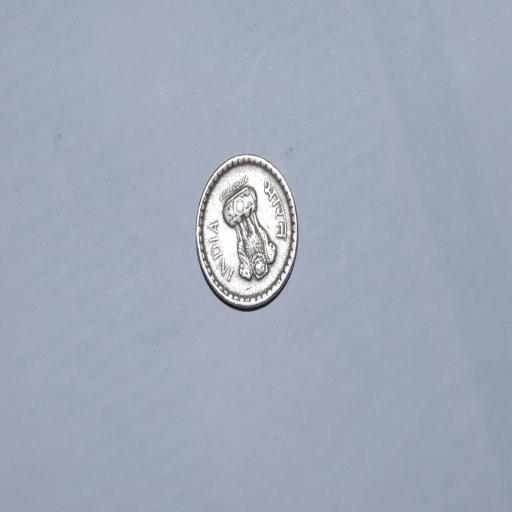rupee5: (190, 152, 301, 315)
